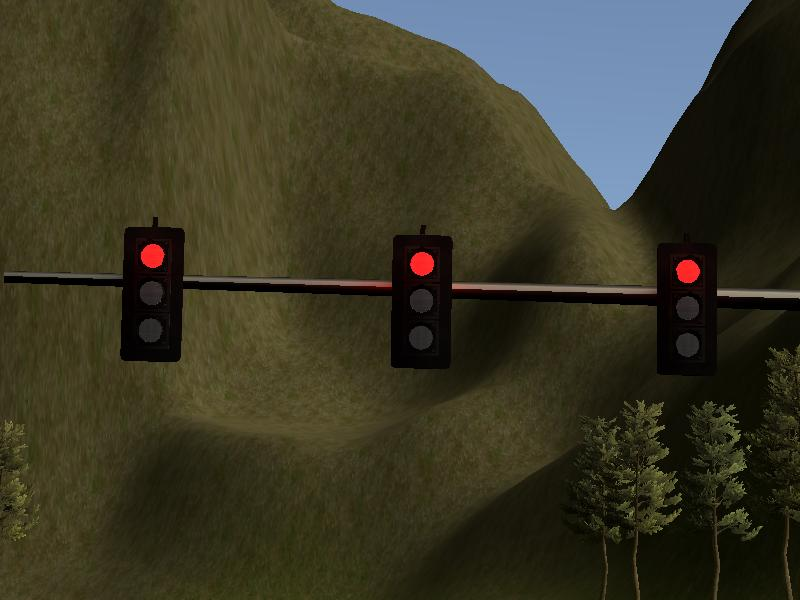red: (121, 225, 183, 362), (392, 232, 454, 369), (656, 239, 718, 376)
